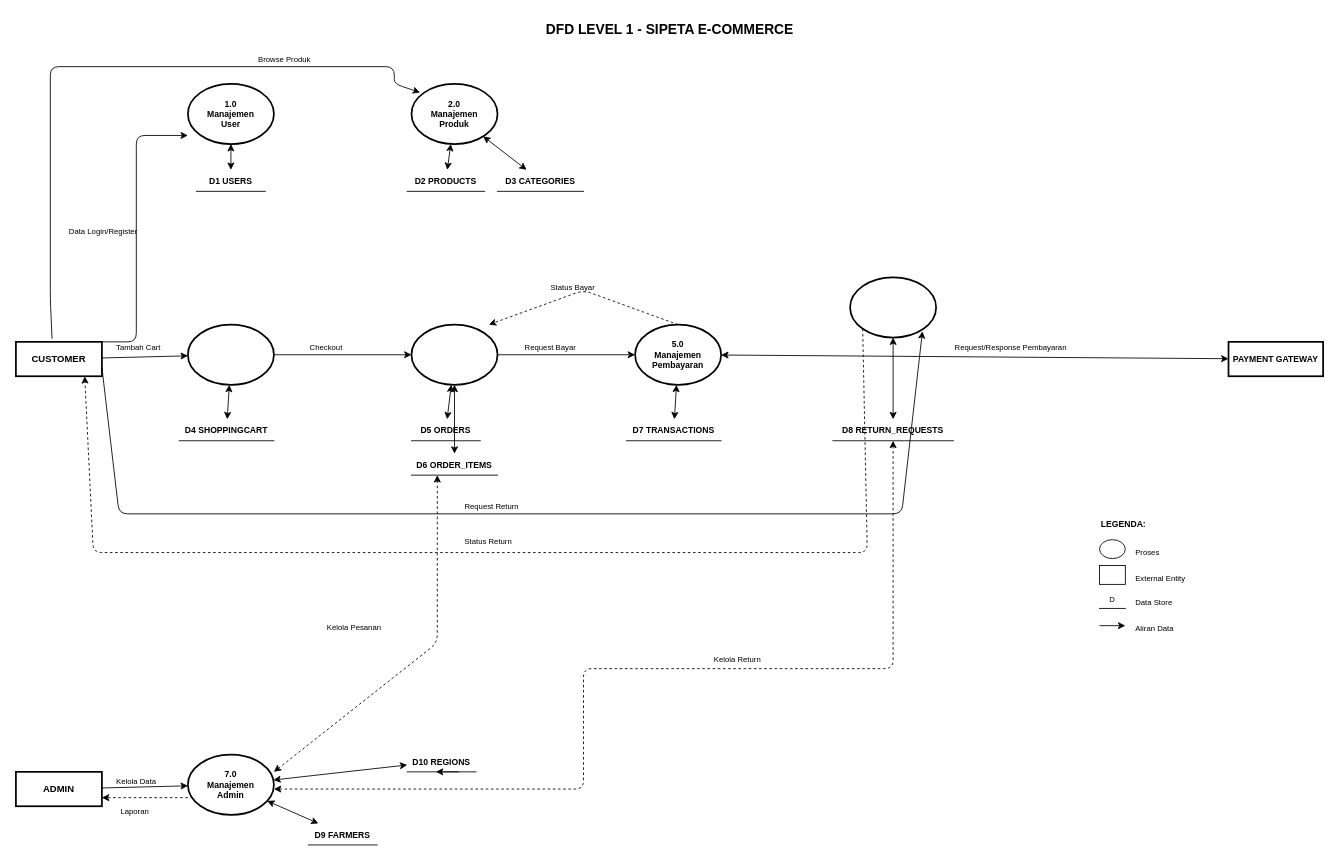
This 1338x860 diagram has some shape labels left out. The centre of each missing label's shape, as x and y in pixels:
3.0 Manajemen Keranjang: point 230,354
4.0 Manajemen Pesanan: point 454,354
6.0 Manajemen Return: point 893,307
